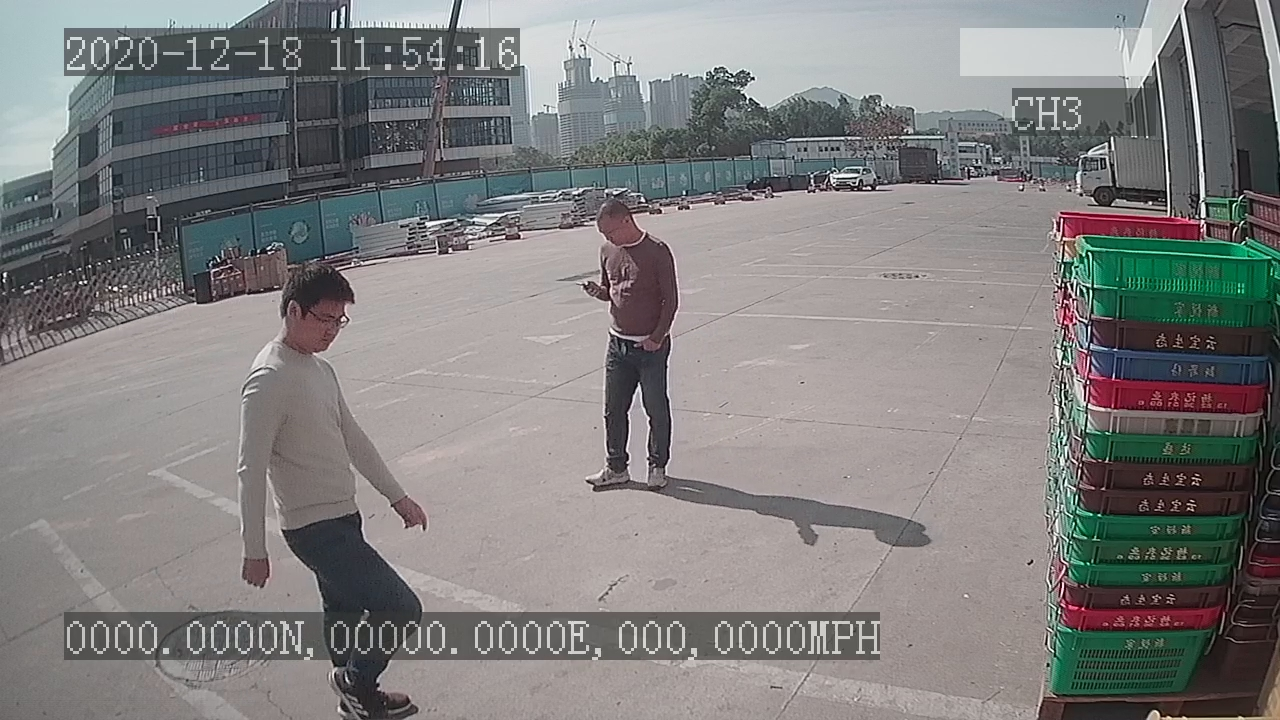person: (565, 194, 690, 495)
